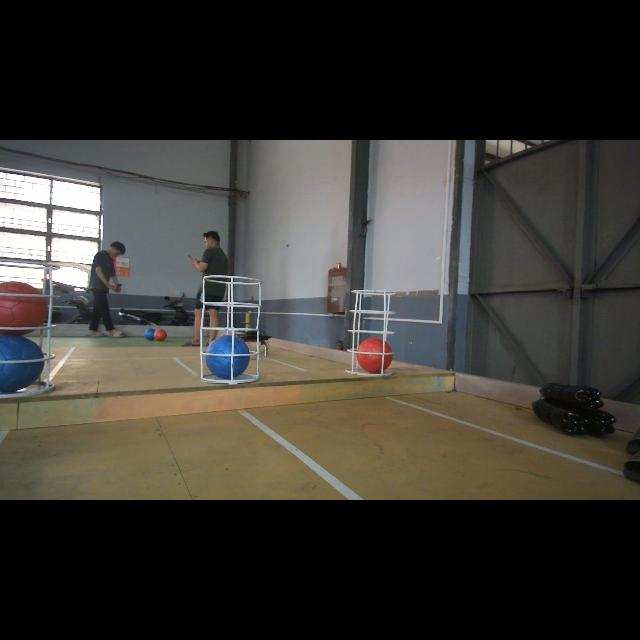B: (0, 336, 44, 392), (205, 334, 252, 380)
R: (0, 280, 50, 334), (356, 336, 394, 374)
